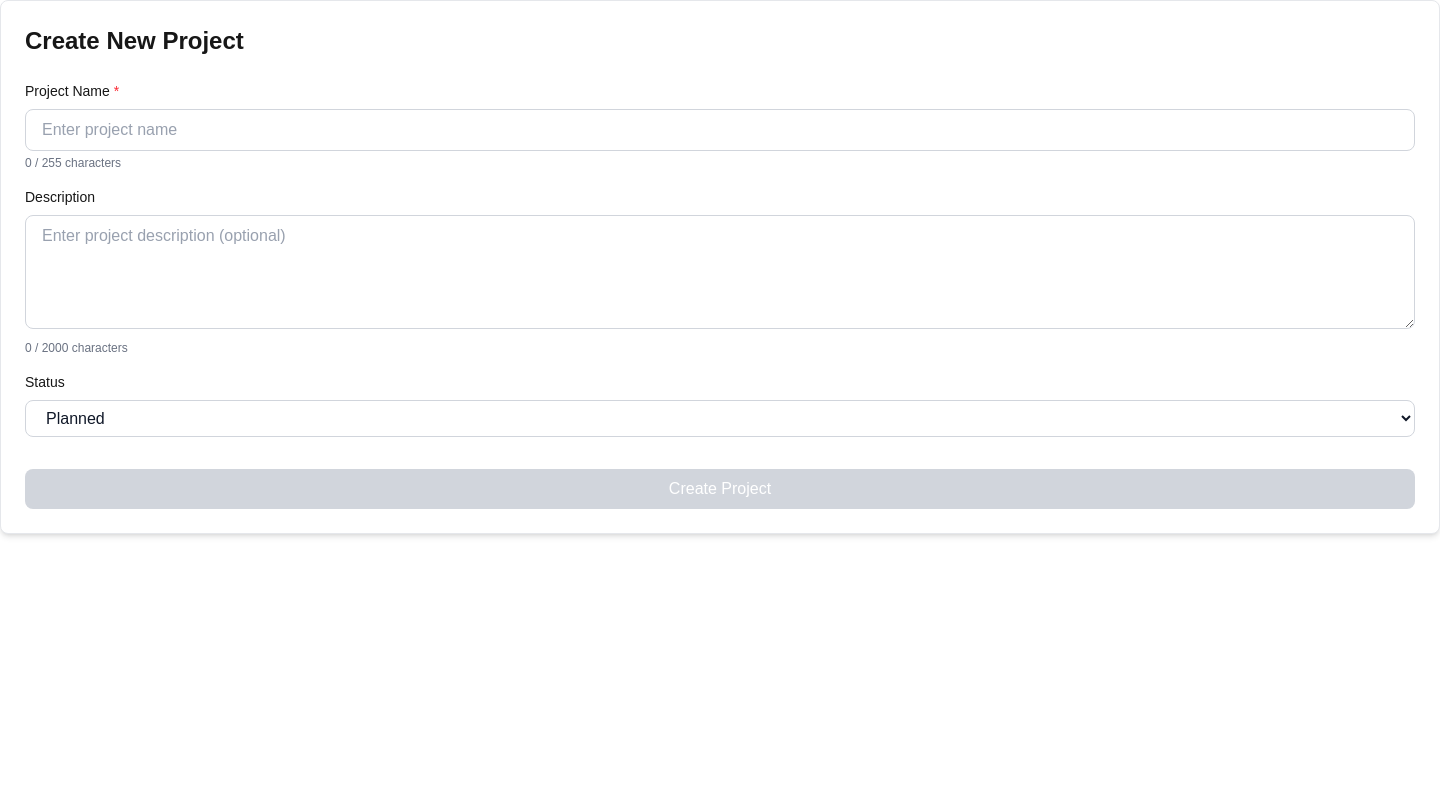
Test: ProjectForm › Form Submission › should show success message after successful submission
Type "Test Project" into the field labelled "Project Name *". click: [720, 130]
box: x1=25 y1=109 x2=1415 y2=151
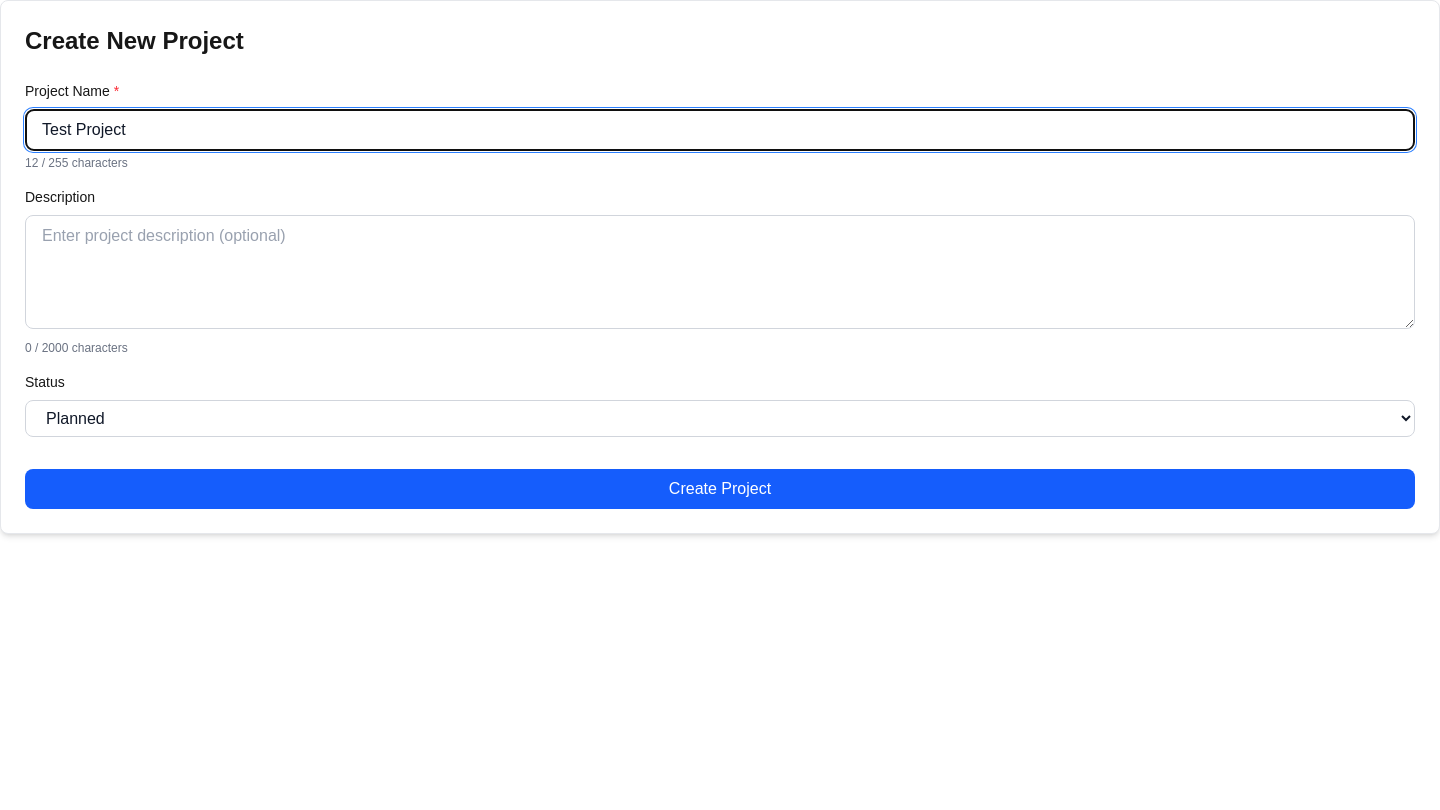
Click the button "Create Project". click: [720, 489]
box: x1=25 y1=469 x2=1415 y2=509
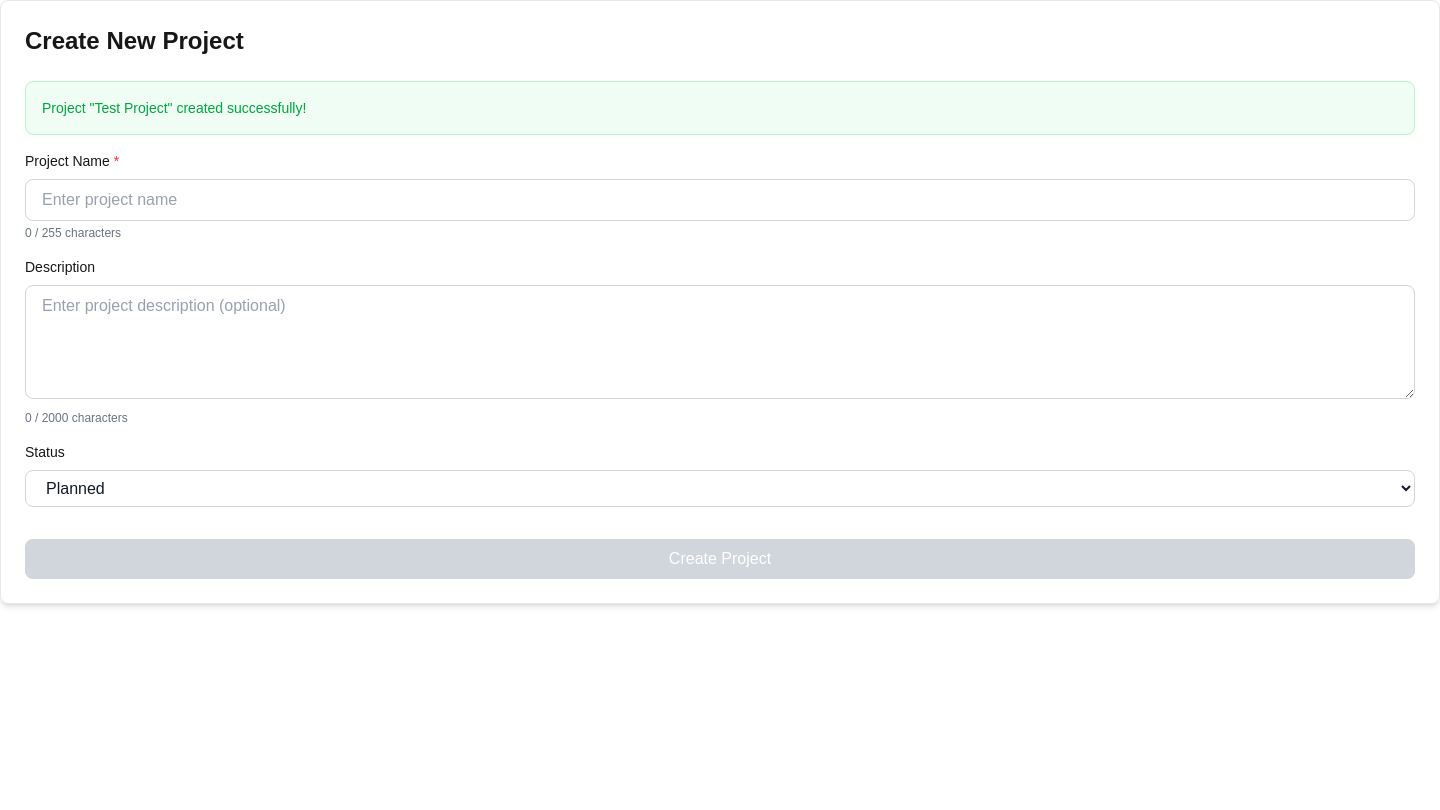
Expected: the text "Project \"Test Project\" created successfully!" is shown, x1=42 y1=100 x2=306 y2=116
